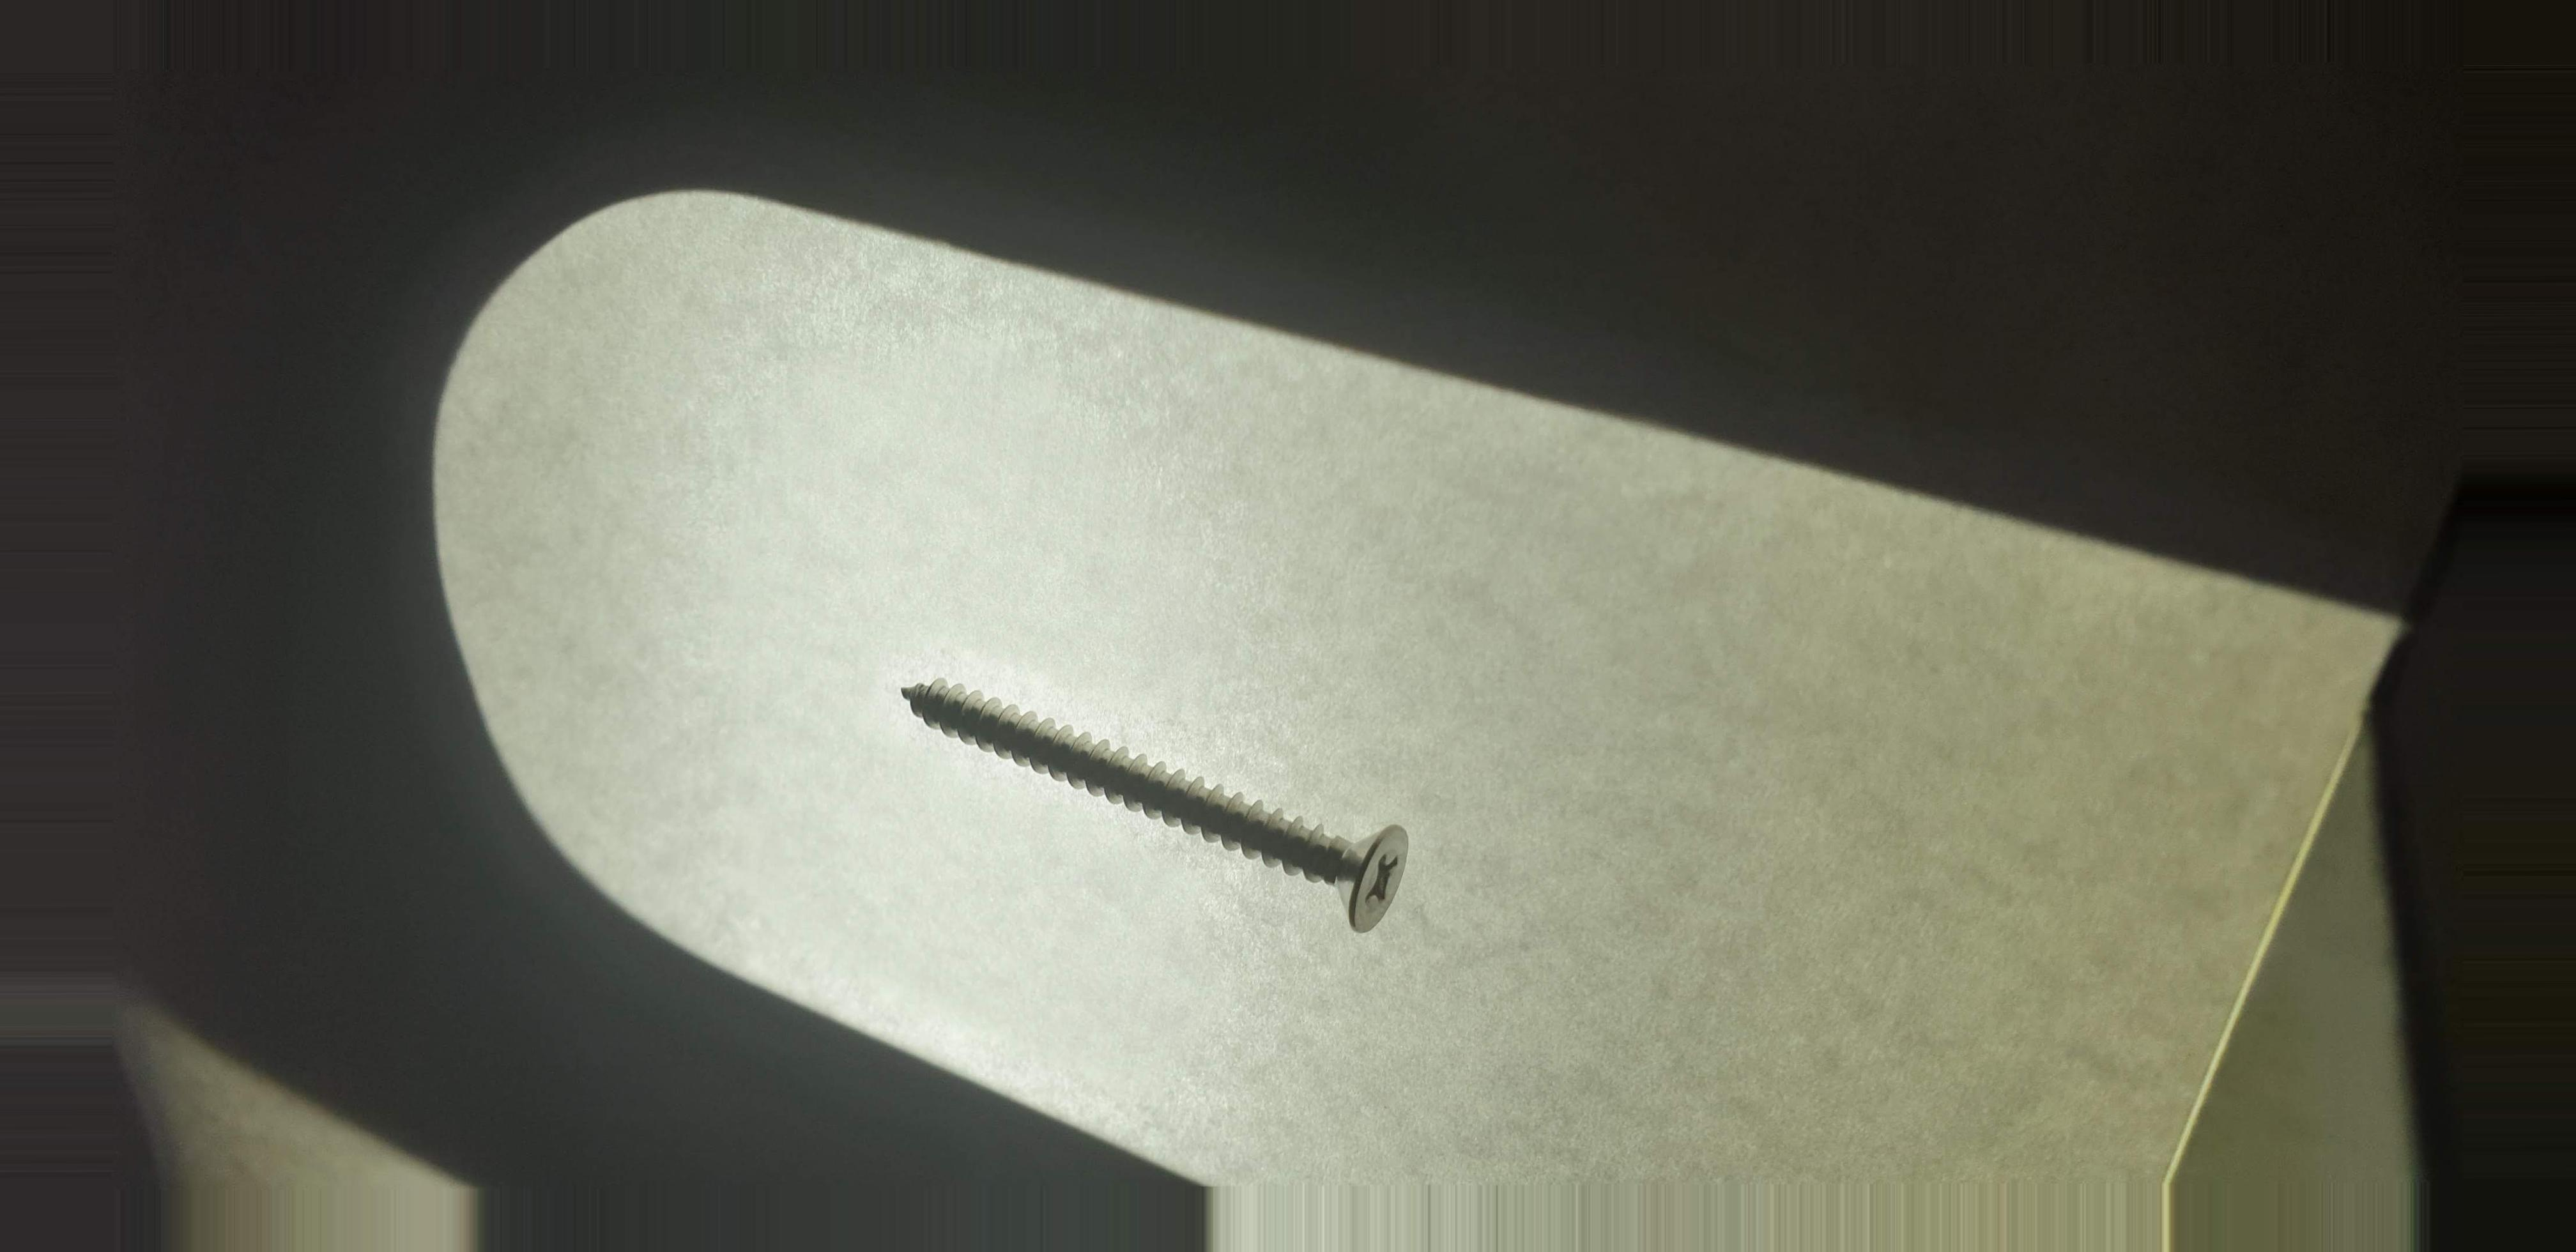S001: (869, 641, 1452, 973)
